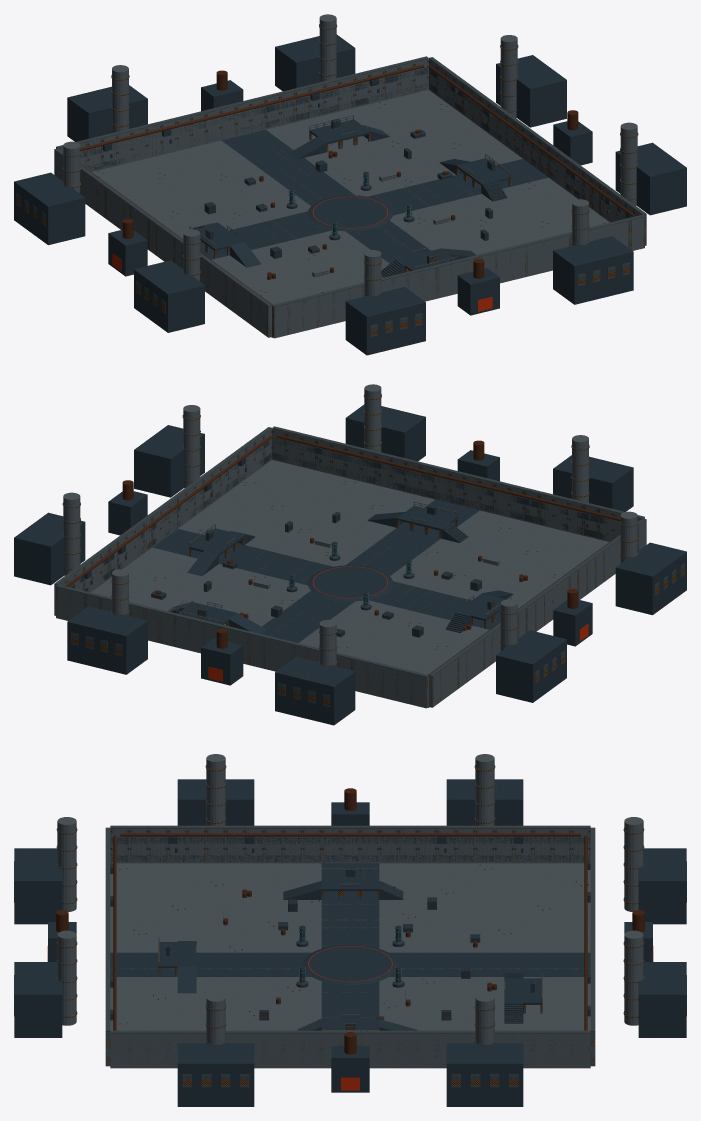
Rendered from Foundry_Layout_PreWallFlickerFix.fbx.
3 views of the same model, one above another, from view 1: azimuth 30°, elevation 25°; view 2: azimuth 150°, elevation 25°; view 3: azimuth 270°, elevation 25° (orthographic). The views are drawn at different scales.
Visible parts, largest first — view 1: INST_1056_Vista_Factory, INST_1054_Vista_Factory, INST_1165_Vista_Factory, INST_1167_Vista_Factory, INST_1091_Vista_Factory, INST_1093_Vista_Factory, INST_1128_Vista_Factory, INST_1130_Vista_Factory, INST_1057_Vista_Furnace, INST_1168_Vista_Furnace, INST_1094_Vista_Furnace, INST_1090_Vista_Chimney (+9 smaller); view 2: INST_1128_Vista_Factory, INST_1130_Vista_Factory, INST_1167_Vista_Factory, INST_1165_Vista_Factory, INST_1093_Vista_Factory, INST_1091_Vista_Factory, INST_1056_Vista_Factory, INST_1054_Vista_Factory, INST_1131_Vista_Furnace, INST_1168_Vista_Furnace, INST_1094_Vista_Furnace, INST_1092_Vista_Chimney (+9 smaller); view 3: INST_1091_Vista_Factory, INST_1093_Vista_Factory, INST_1056_Vista_Factory, INST_1128_Vista_Factory, INST_1054_Vista_Factory, INST_1130_Vista_Factory, INST_1165_Vista_Factory, INST_1167_Vista_Factory, INST_1094_Vista_Furnace, INST_1055_Vista_Chimney, INST_1127_Vista_Chimney, INST_1053_Vista_Chimney (+14 smaller).
Boxes of the visible parts, x1,y1,x2,y2 form: INST_1056_Vista_Factory: [553, 236, 633, 304]; INST_1054_Vista_Factory: [345, 286, 425, 355]; INST_1165_Vista_Factory: [14, 172, 85, 245]; INST_1167_Vista_Factory: [134, 260, 204, 332]; INST_1091_Vista_Factory: [615, 142, 686, 215]; INST_1093_Vista_Factory: [496, 55, 566, 127]; INST_1128_Vista_Factory: [275, 34, 355, 91]; INST_1130_Vista_Factory: [67, 85, 147, 141]; INST_1057_Vista_Furnace: [457, 258, 499, 315]; INST_1168_Vista_Furnace: [108, 218, 147, 276]; INST_1094_Vista_Furnace: [553, 110, 592, 165]; INST_1090_Vista_Chimney: [620, 122, 638, 205]; INST_1128_Vista_Factory: [67, 606, 147, 674]; INST_1130_Vista_Factory: [275, 656, 355, 725]; INST_1167_Vista_Factory: [615, 542, 686, 615]; INST_1165_Vista_Factory: [496, 630, 566, 702]; INST_1093_Vista_Factory: [14, 512, 85, 585]; INST_1091_Vista_Factory: [134, 425, 204, 497]; INST_1056_Vista_Factory: [345, 404, 425, 461]; INST_1054_Vista_Factory: [553, 455, 633, 511]; INST_1131_Vista_Furnace: [201, 628, 243, 685]; INST_1168_Vista_Furnace: [553, 588, 592, 646]; INST_1094_Vista_Furnace: [108, 480, 147, 535]; INST_1092_Vista_Chimney: [62, 492, 80, 575]; INST_1091_Vista_Factory: [177, 1043, 254, 1106]; INST_1093_Vista_Factory: [446, 1043, 523, 1106]; INST_1056_Vista_Factory: [14, 962, 62, 1037]; INST_1128_Vista_Factory: [638, 962, 686, 1037]; INST_1054_Vista_Factory: [14, 848, 62, 924]; INST_1130_Vista_Factory: [638, 848, 686, 924]; INST_1165_Vista_Factory: [446, 779, 523, 825]; INST_1167_Vista_Factory: [177, 779, 254, 825]; INST_1094_Vista_Furnace: [331, 1032, 369, 1092]; INST_1055_Vista_Chimney: [56, 930, 77, 1025]; INST_1127_Vista_Chimney: [623, 930, 644, 1025]; INST_1053_Vista_Chimney: [56, 817, 77, 911].
Bounding box in the file's own units: 140 × 20.25 × 140.
